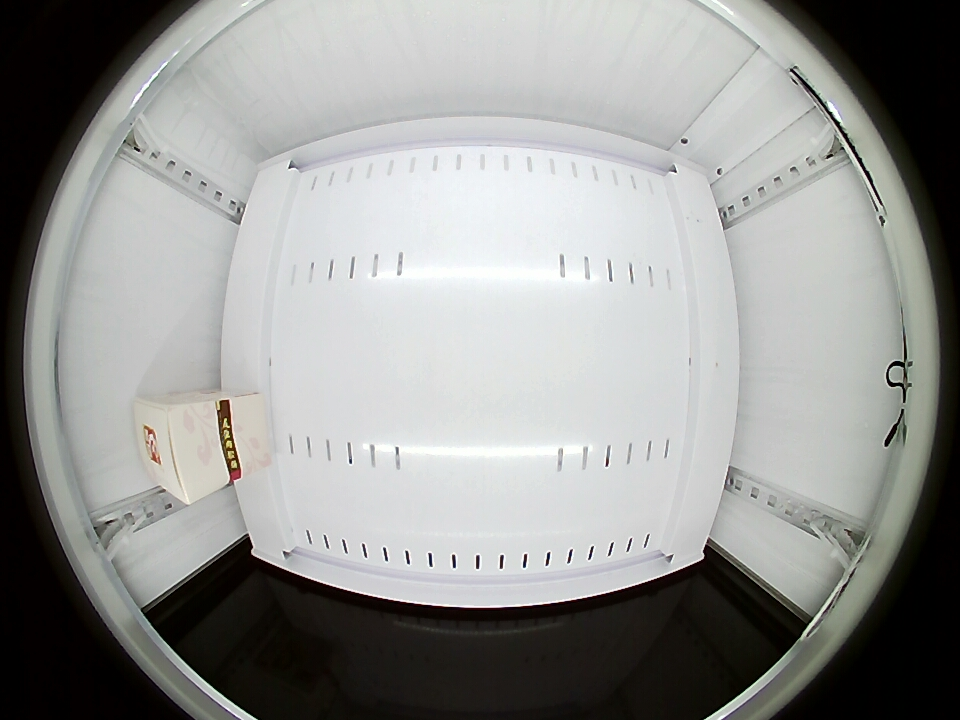rousongbing: (136, 394, 230, 506)
